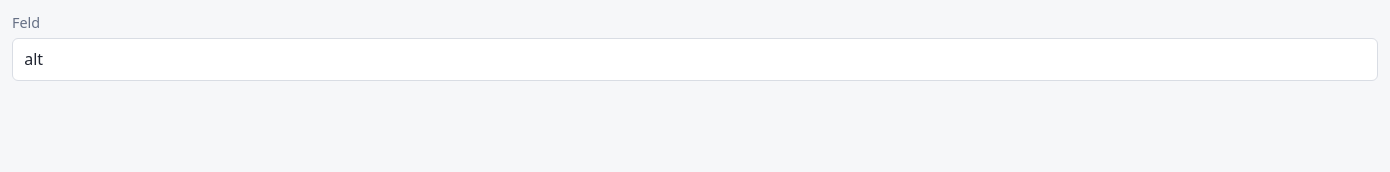
it: TextField › onSave liefert false: Anzeige springt auf gespeicherten Wert, Unmount schreibt nicht erneut
Type "x" into the field labelled "Feld" at (695, 59), box [12,38,1378,81]
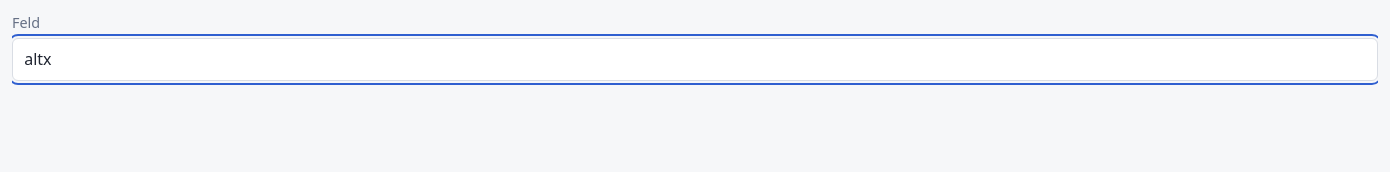
Press Tab
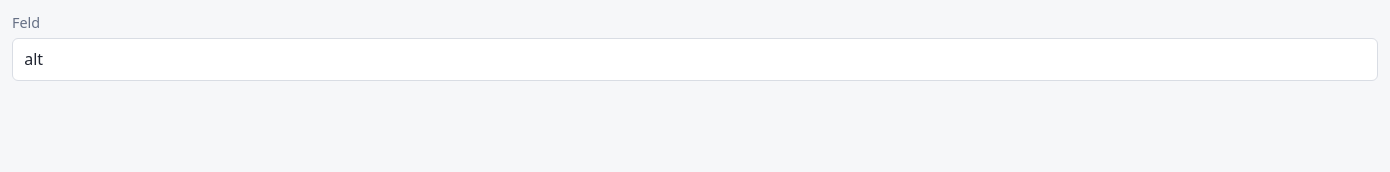
Check: the field labelled "Feld" holds "alt", box [12,38,1378,81]
